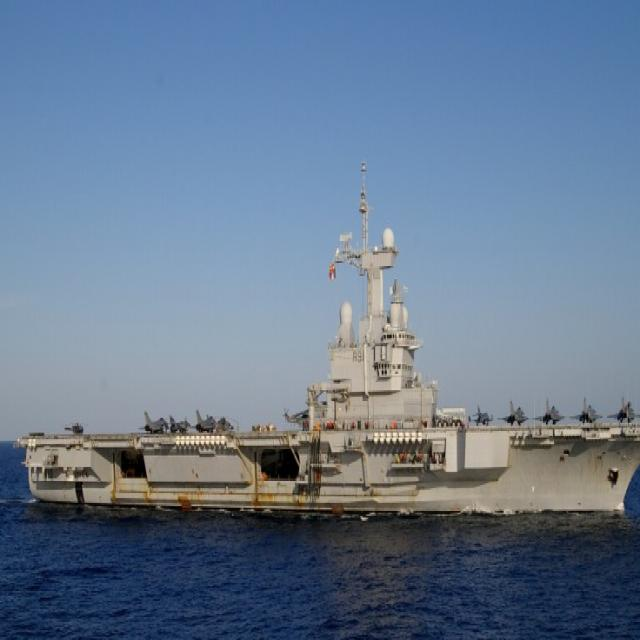Portanaves: (14, 153, 640, 528)
